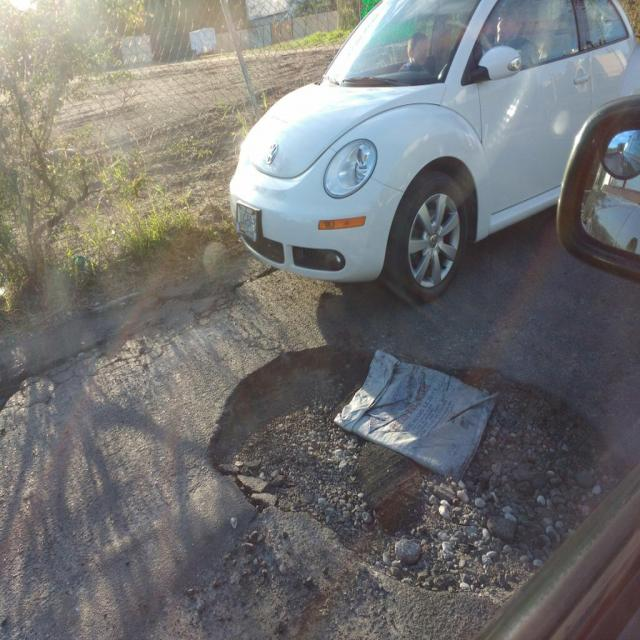Pothole: (170, 319, 638, 610)
